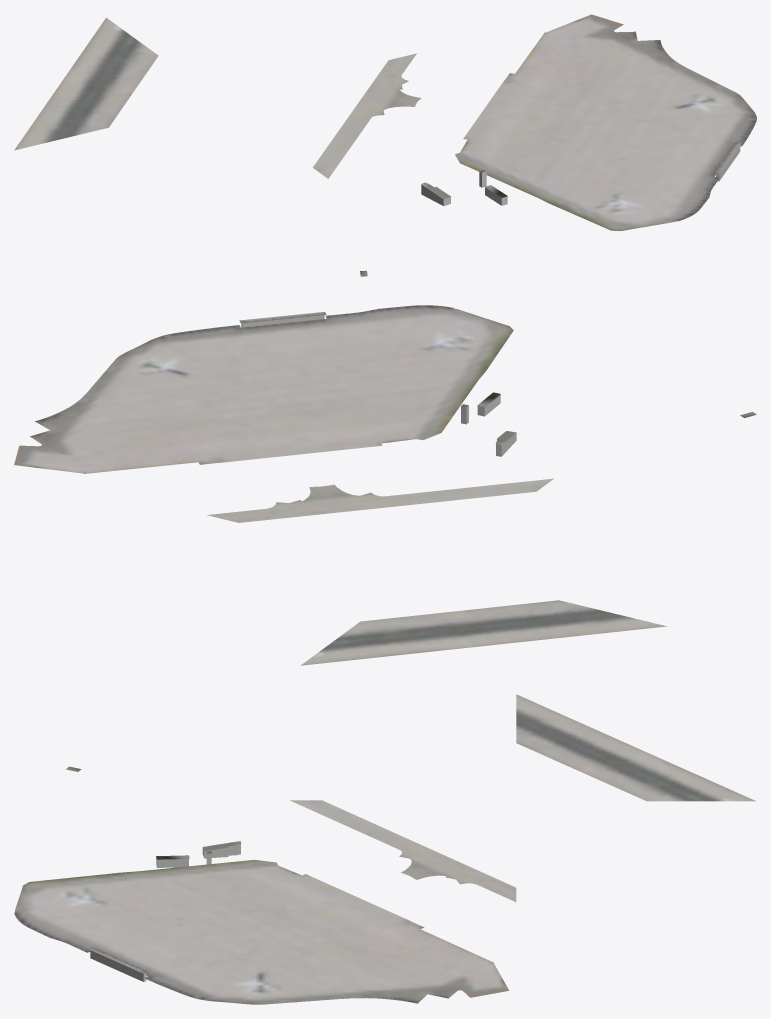
The model's file is LSGG_2_1.glb.
3 views of the same model, one above another, from view 1: azimuth 30°, elevation 25°; view 2: azimuth 150°, elevation 25°; view 3: azimuth 270°, elevation 25° (orthographic). The views are drawn at different scales.
Parts seen in each view (by area): view 1: pavement_LSGG_pavement_4997_2244, pavement_LSGG_pavement_4996_2245, building_bf401500886a1795; view 2: pavement_LSGG_pavement_4997_2244, pavement_LSGG_pavement_4996_2245, building_bf401500886a1795; view 3: pavement_LSGG_pavement_4997_2244, pavement_LSGG_pavement_4996_2245, building_bf401500886a1795.
Boxes of the visible parts, left/top/right/bottom form: pavement_LSGG_pavement_4997_2244: left=313, top=14, right=756, bottom=230; pavement_LSGG_pavement_4996_2245: left=14, top=17, right=158, bottom=150; building_bf401500886a1795: left=421, top=171, right=507, bottom=205; pavement_LSGG_pavement_4997_2244: left=14, top=305, right=553, bottom=522; pavement_LSGG_pavement_4996_2245: left=301, top=600, right=666, bottom=665; building_bf401500886a1795: left=461, top=395, right=516, bottom=456; pavement_LSGG_pavement_4997_2244: left=14, top=800, right=516, bottom=1004; pavement_LSGG_pavement_4996_2245: left=516, top=694, right=755, bottom=801; building_bf401500886a1795: left=156, top=843, right=240, bottom=867.
Size of the model in its own units: 459 by 16.39 by 466.
3 materials, 2 textured.
